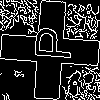P: (25, 25, 73, 61)
